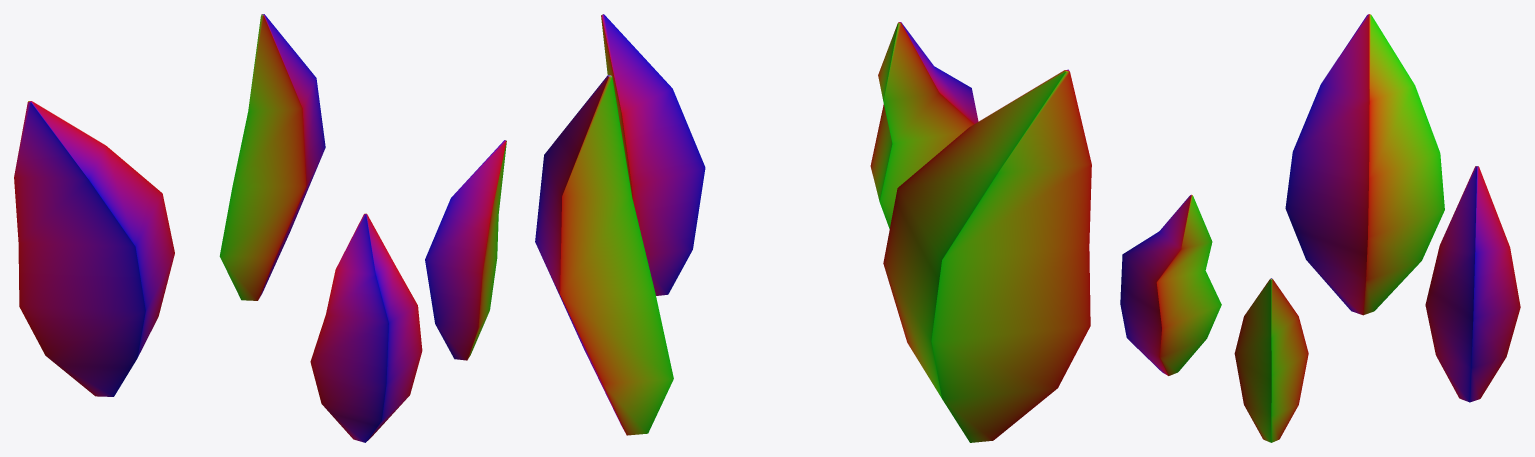
Rendered from SM_Grass_Clump_01.fbx.
3 renders of one model, left to right at view 1: azimuth 30°, elevation 25°; view 2: azimuth 150°, elevation 25°; view 3: azimuth 270°, elevation 25°, orthographic. The views are drawn at different scales.
Parts seen in each view (by area): view 1: grass_clump_01_geo; view 2: grass_clump_01_geo; view 3: grass_clump_01_geo.
Part boxes in pixels (x1,y1,x2,y2): grass_clump_01_geo: [14, 14, 506, 442]; grass_clump_01_geo: [535, 14, 1091, 442]; grass_clump_01_geo: [1120, 14, 1520, 442].
Size of the model in its own units: 114 by 76.35 by 104.
